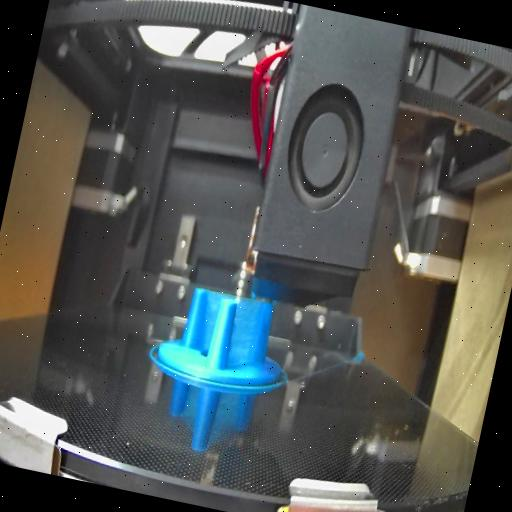stringing: (222, 296, 269, 376), (189, 291, 223, 359)
